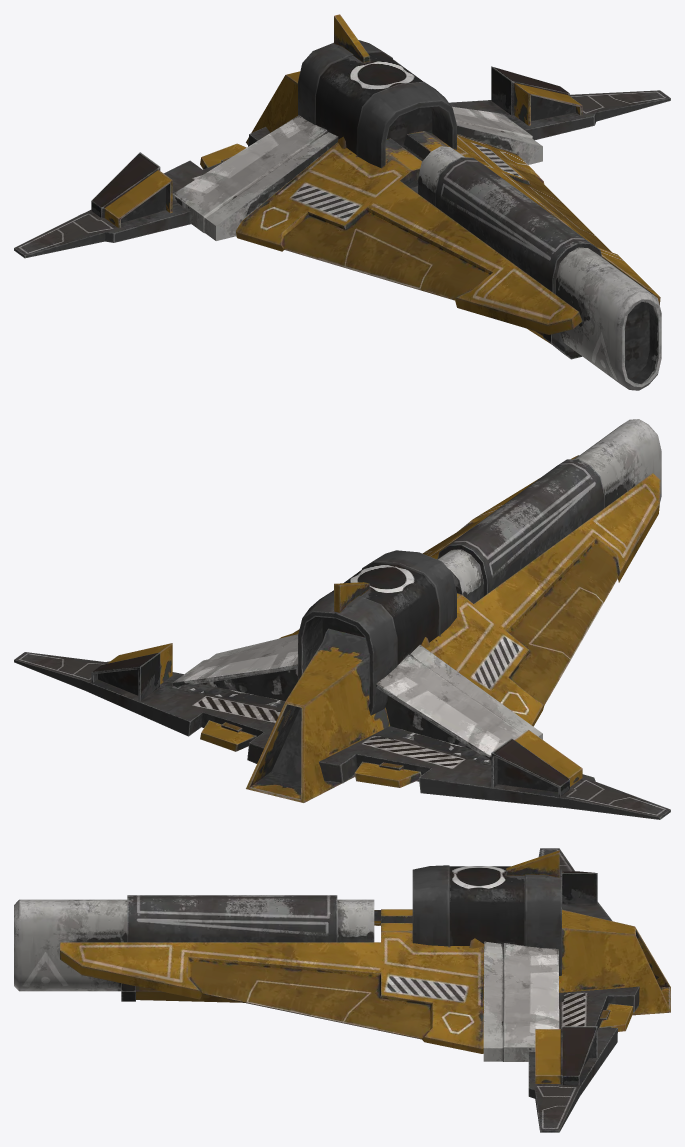
File: Omen.glb
3 renders of one model, top to bottom at view 1: azimuth 30°, elevation 25°; view 2: azimuth 150°, elevation 25°; view 3: azimuth 270°, elevation 25°, orthographic. The views are drawn at different scales.
Parts seen in each view (by area): view 1: Omen; view 2: Omen; view 3: Omen.
Part boxes in pixels (box(x1,y1,x2,y2)): Omen: box(14, 14, 670, 390); Omen: box(14, 419, 670, 819); Omen: box(14, 848, 670, 1132).
Size of the model in its own units: 12.78 by 3.14 by 12.58.
1 material, 1 textured.
